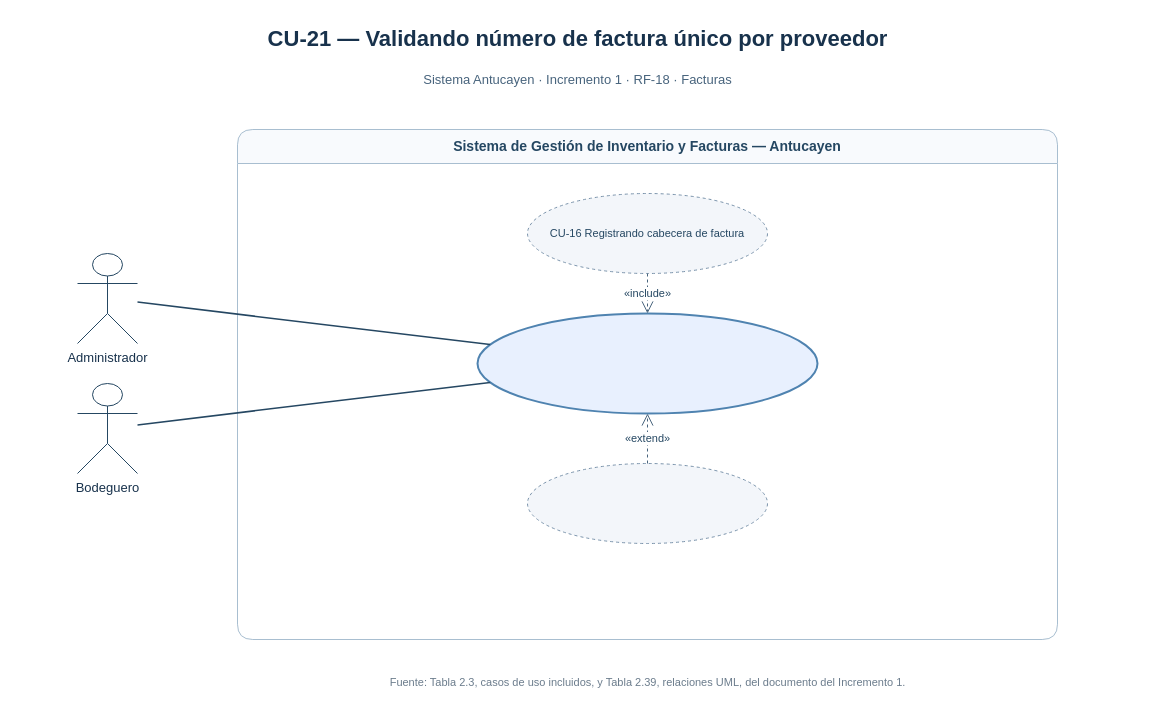
The diagram is 1154 pixels wide and 712 high, and some of its shapes have lost their labels. Here are the shapes that lost their labels. From the top down, the centre of each, then its label:
(647,363): CU-21 Validando número de factura único por proveedor
(647,503): CU-22 Controlando alerta de factura duplicada
